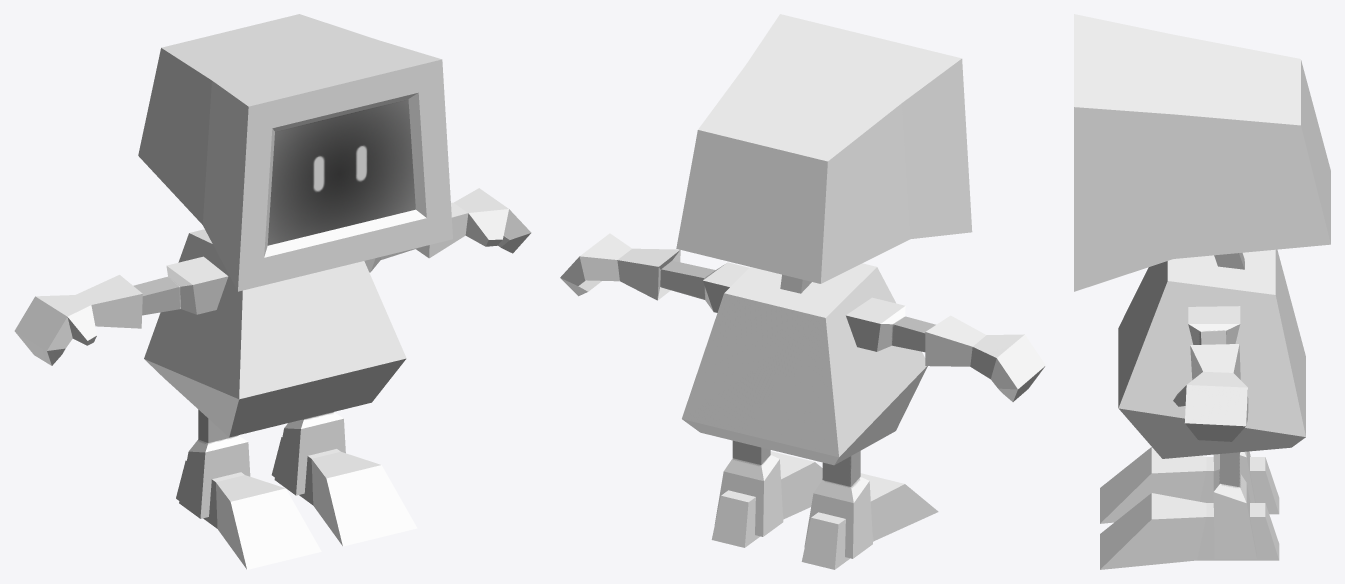
Rendered from bot.glb.
3 renders of one model, left to right at view 1: azimuth 30°, elevation 25°; view 2: azimuth 150°, elevation 25°; view 3: azimuth 270°, elevation 25°, orthographic. The views are drawn at different scales.
Parts seen in each view (by area): view 1: Bot; view 2: Bot; view 3: Bot.
Boxes of the visible parts, bbox=[...] form: Bot: bbox=[14, 14, 531, 569]; Bot: bbox=[560, 14, 1045, 569]; Bot: bbox=[1074, 14, 1330, 569].
Bounding box in the file's own units: 1.77 × 1.65 × 0.8216.
1 material, 1 textured.
